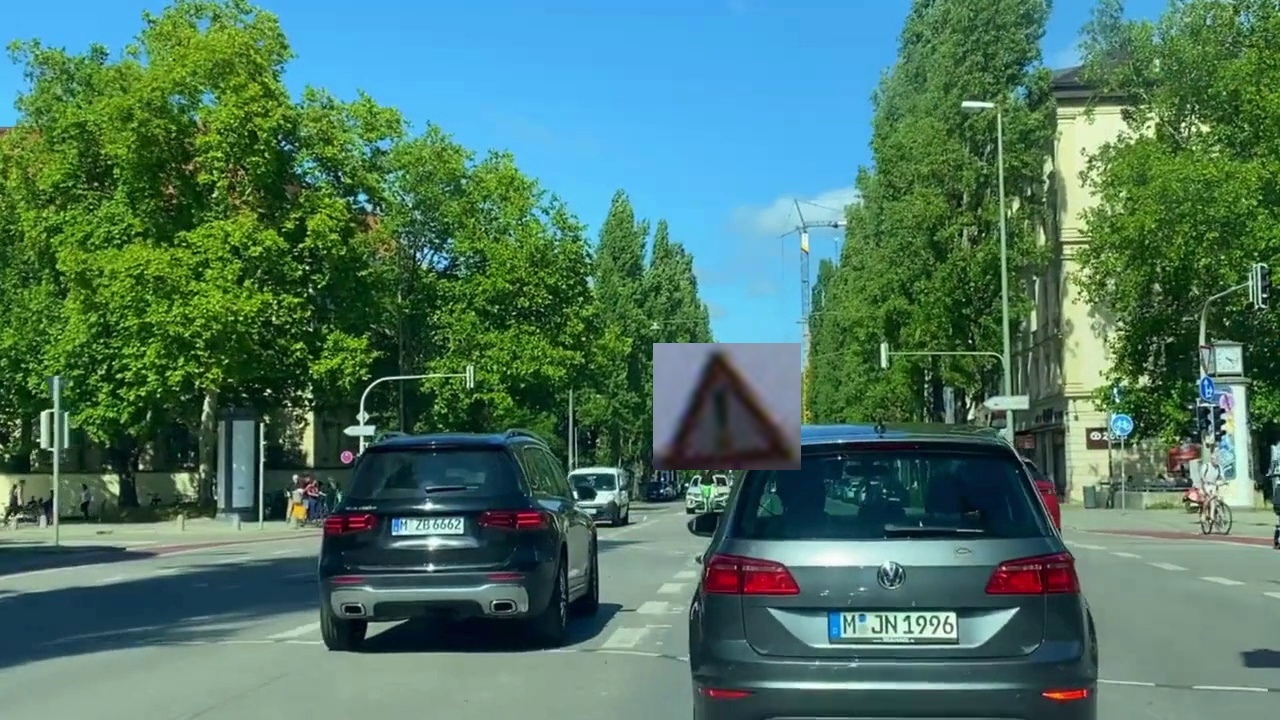Caution: (653, 343, 801, 470)
